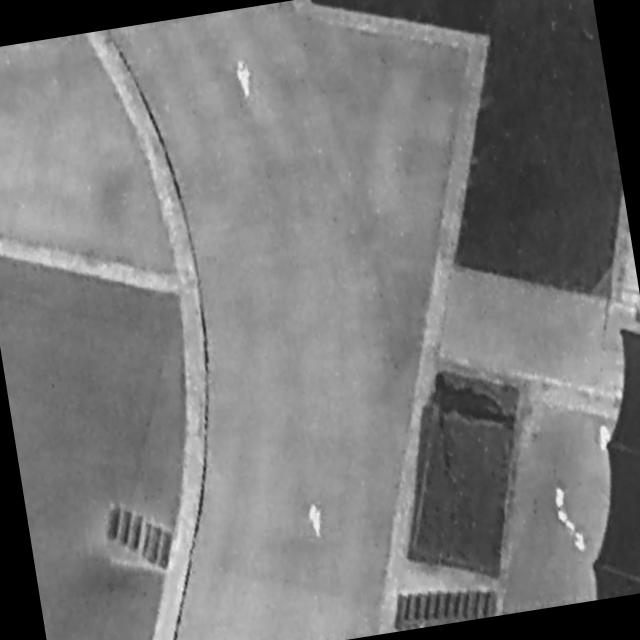person: (232, 56, 260, 103), (306, 501, 328, 542)
